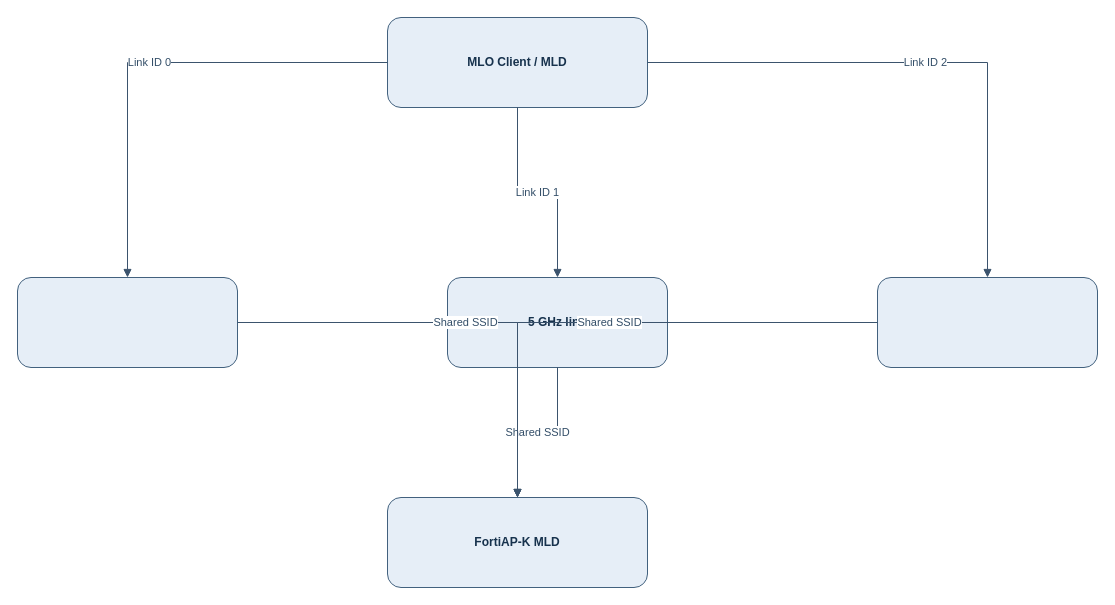
This 1115x605 diagram has some shape labels left out. Each missing label, with the box of its shape:
2.4 GHz link: (16, 276, 238, 368)
6 GHz link: (876, 276, 1098, 368)
